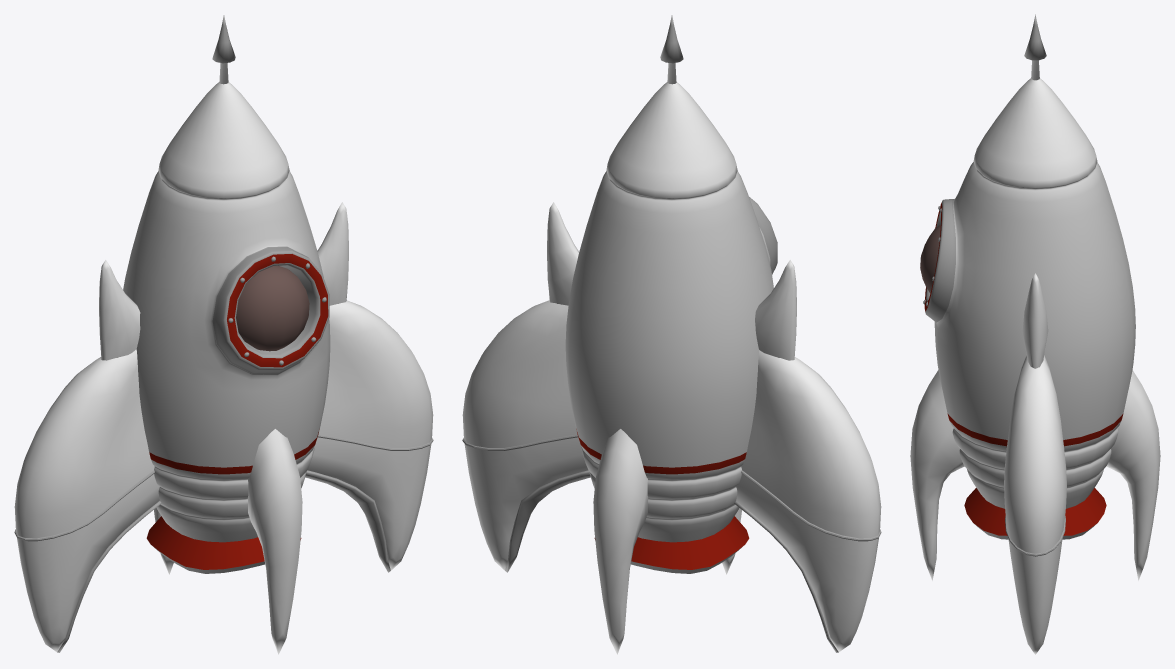
Rendered from rocket_3d.fbx.
The picture shows the model from 3 angles, left to right: view 1: azimuth 30°, elevation 25°; view 2: azimuth 150°, elevation 25°; view 3: azimuth 270°, elevation 25°; orthographic projection. The views are drawn at different scales.
Parts seen in each view (by area): view 1: body, wing_1, wing_3, wing_2, glass, wing_down, line, arrow; view 2: body, wing_1, wing_3, wing_2, wing_down, line, arrow; view 3: body, wing_1, wing_3, wing_2, glass, arrow.
Boxes of the visible parts, x1,y1,x2,y2 form: body: [123, 82, 330, 573]; wing_1: [14, 300, 433, 651]; wing_3: [154, 429, 302, 654]; wing_2: [99, 202, 348, 360]; glass: [236, 265, 309, 351]; wing_down: [57, 470, 390, 652]; line: [14, 434, 433, 541]; arrow: [212, 15, 235, 84]; body: [565, 82, 777, 573]; wing_1: [462, 300, 881, 651]; wing_3: [593, 429, 741, 654]; wing_2: [547, 202, 796, 360]; wing_down: [505, 470, 838, 652]; line: [462, 434, 881, 541]; arrow: [660, 15, 683, 84]; body: [924, 78, 1135, 539]; wing_1: [1004, 355, 1066, 654]; wing_3: [910, 370, 1160, 580]; wing_2: [1022, 273, 1048, 368]; glass: [920, 224, 940, 293]; arrow: [1024, 14, 1046, 80].
Size of the model in its own units: 291 by 403 by 161.
